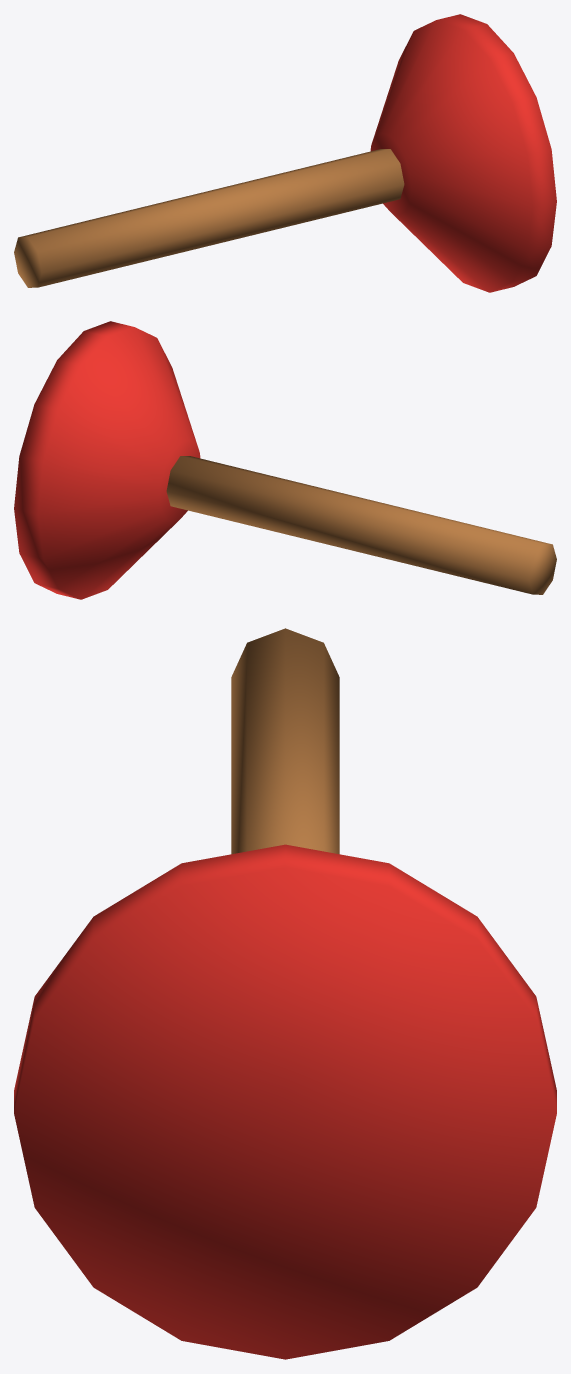
The model's file is plunger_head.glb.
3 views of the same model, one above another, from view 1: azimuth 30°, elevation 25°; view 2: azimuth 150°, elevation 25°; view 3: azimuth 270°, elevation 25° (orthographic). The views are drawn at different scales.
Visible parts, largest first — view 1: Body; view 2: Body; view 3: Body.
Boxes of the visible parts, x1,y1,x2,y2 form: Body: [14, 14, 556, 292]; Body: [14, 321, 556, 599]; Body: [14, 628, 556, 1359].
Bounding box in the file's own units: 0.38 × 0.2 × 0.2.
